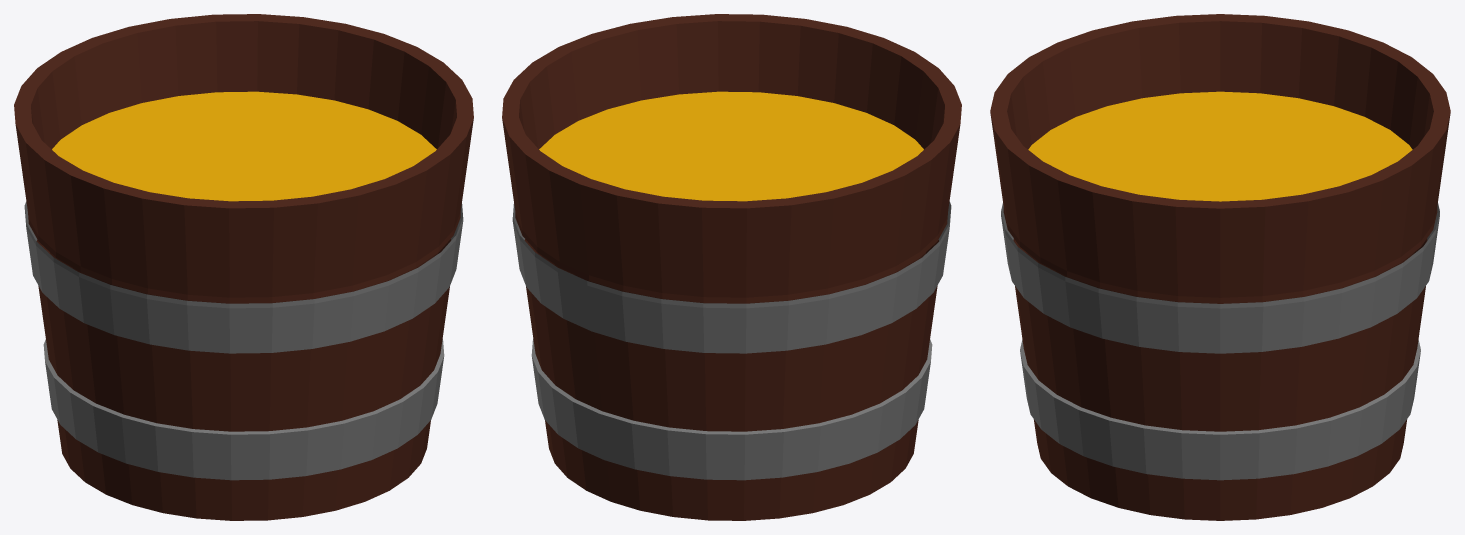
The model's file is HoneyBucket.fbx.
The picture shows the model from 3 angles, left to right: view 1: azimuth 30°, elevation 25°; view 2: azimuth 150°, elevation 25°; view 3: azimuth 270°, elevation 25°; orthographic projection.
Parts seen in each view (by area): view 1: Cylinder, Cylinder.001; view 2: Cylinder, Cylinder.001; view 3: Cylinder, Cylinder.001.
Part boxes in pixels (bbox=[...]): Cylinder: bbox=[14, 14, 473, 520]; Cylinder.001: bbox=[52, 91, 436, 201]; Cylinder: bbox=[502, 14, 961, 520]; Cylinder.001: bbox=[539, 91, 923, 201]; Cylinder: bbox=[990, 14, 1450, 520]; Cylinder.001: bbox=[1028, 91, 1412, 201].
Bounding box in the file's own units: 648 × 516 × 648.
